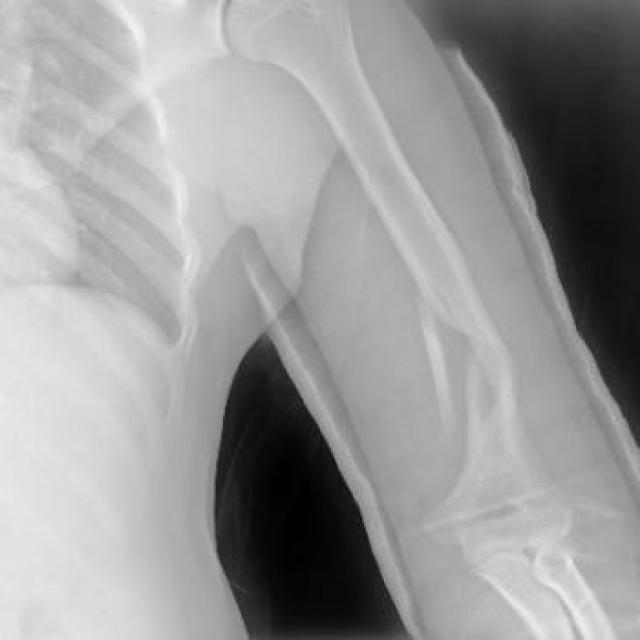fracture: (415, 285, 521, 439)
